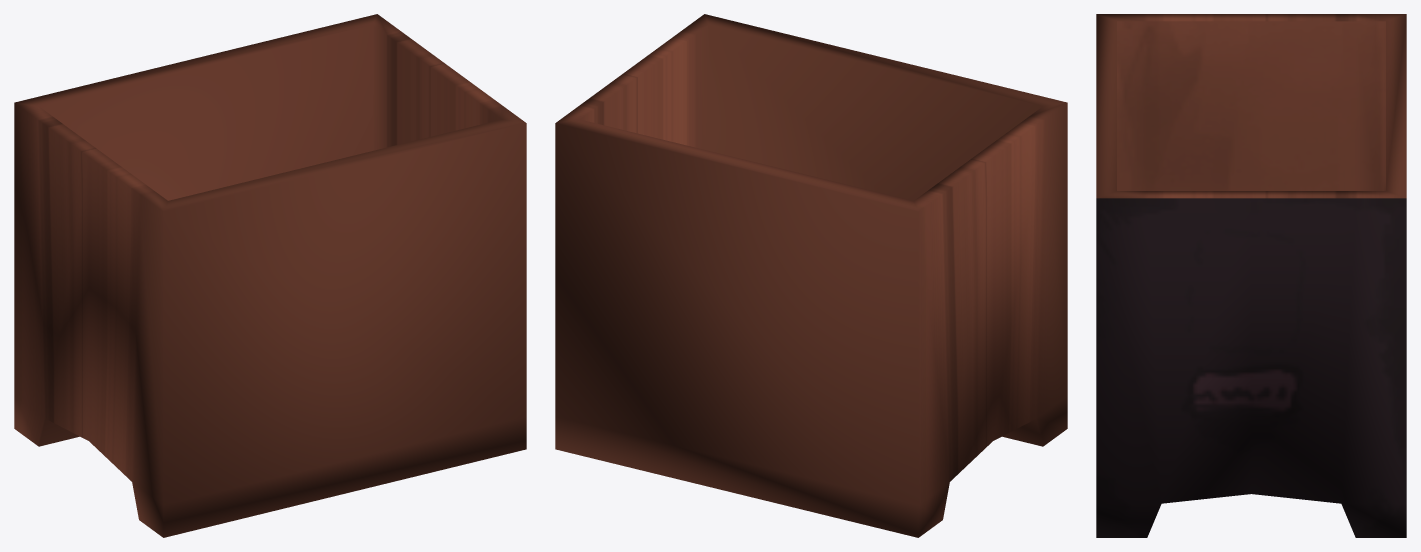
File: Gabinete.fbx
3 views of the same model, side by side, from view 1: azimuth 30°, elevation 25°; view 2: azimuth 150°, elevation 25°; view 3: azimuth 270°, elevation 25° (orthographic). The views are drawn at different scales.
Parts seen in each view (by area): view 1: Gabinete; view 2: Gabinete; view 3: Gabinete.
Part boxes in pixels (x1,y1,x2,y2): Gabinete: (14, 14, 526, 537); Gabinete: (555, 14, 1067, 537); Gabinete: (1096, 14, 1406, 537).
Bounding box in the file's own units: 47.14 × 33.54 × 40.46.
